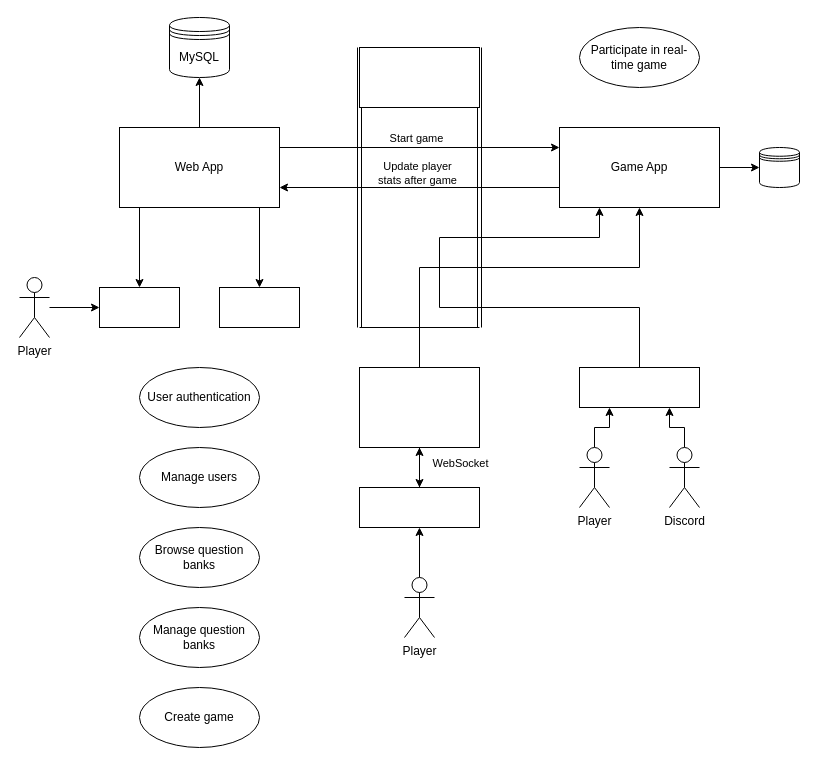
Image size: 817x765. Some labels were removed from this diagram. Here are the shapes that lost their labels. From the top down, the box of each, then its label:
(358, 46, 480, 108): Message Broker (Redis, SQS, Service Bus, etc.)
(758, 146, 800, 188): Redis
(98, 286, 180, 328): Frontend
(218, 286, 300, 328): Backend
(358, 366, 480, 448): Web Connector (translates WebSocket to internal messages)
(578, 366, 700, 408): Discord Bot (?)
(358, 486, 480, 528): Game Web Frontend
